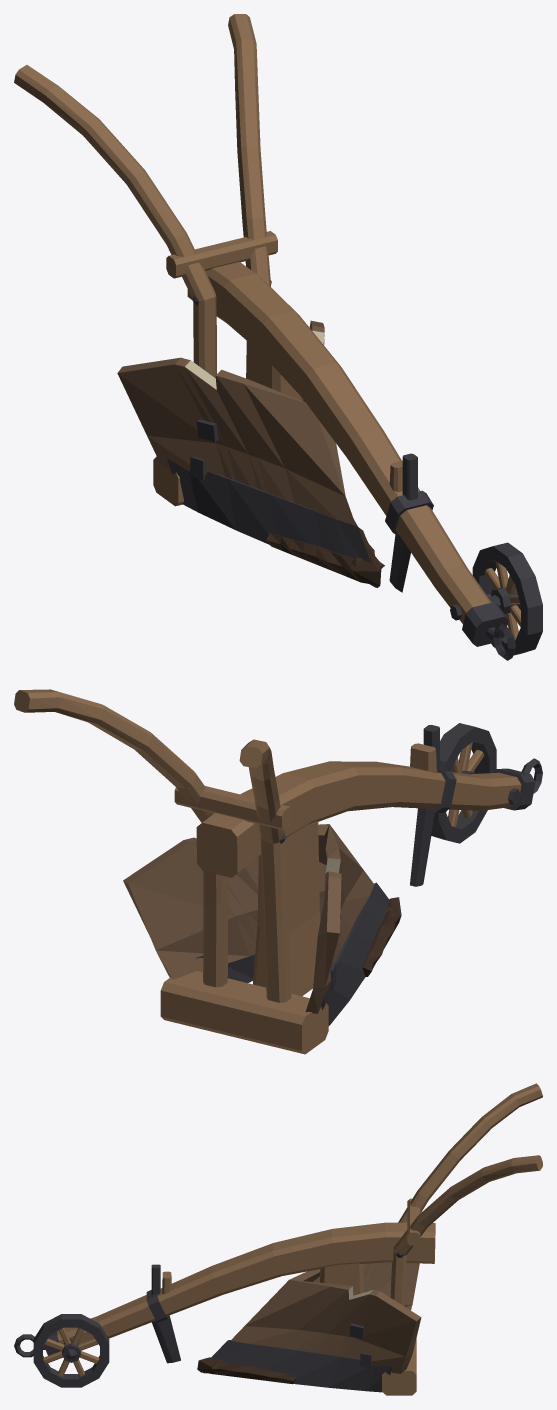
Rendered from var_plough.glb.
The picture shows the model from 3 angles, top to bottom: view 1: azimuth 30°, elevation 25°; view 2: azimuth 150°, elevation 25°; view 3: azimuth 270°, elevation 25°; orthographic projection. The views are drawn at different scales.
Parts seen in each view (by area): view 1: plough-body, wheel-front-mesh; view 2: plough-body, wheel-front-mesh; view 3: plough-body, wheel-front-mesh.
Boxes of the visible parts, x1,y1,x2,y2 form: plough-body: (14, 14, 515, 660); wheel-front-mesh: (472, 542, 542, 655); plough-body: (14, 689, 542, 1054); wheel-front-mesh: (431, 723, 496, 843); plough-body: (14, 1083, 542, 1395); wheel-front-mesh: (33, 1314, 109, 1387).
Bounding box in the file's own units: 0.6471 × 0.9735 × 1.85.
